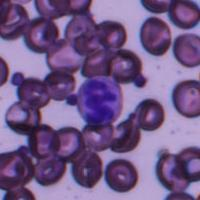N: (78, 75, 123, 125)
